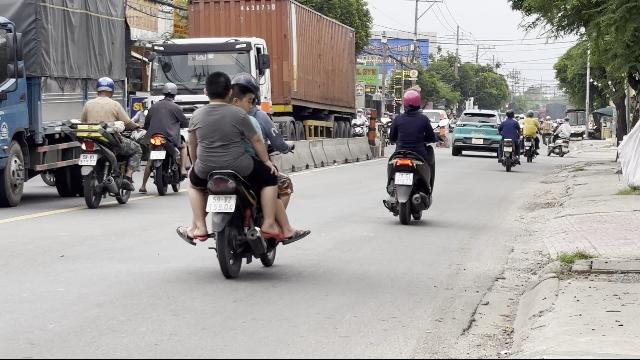helmet: (230, 73, 258, 93), (401, 88, 422, 112), (94, 77, 115, 97), (161, 82, 177, 100)
licenseplate: (206, 194, 236, 212), (394, 172, 414, 185), (78, 154, 98, 166), (150, 150, 166, 160)
motorcyclist: (176, 70, 304, 278), (73, 76, 137, 208), (380, 88, 440, 222), (139, 81, 187, 195)
nohelmet: (203, 70, 233, 102), (230, 83, 258, 115)
